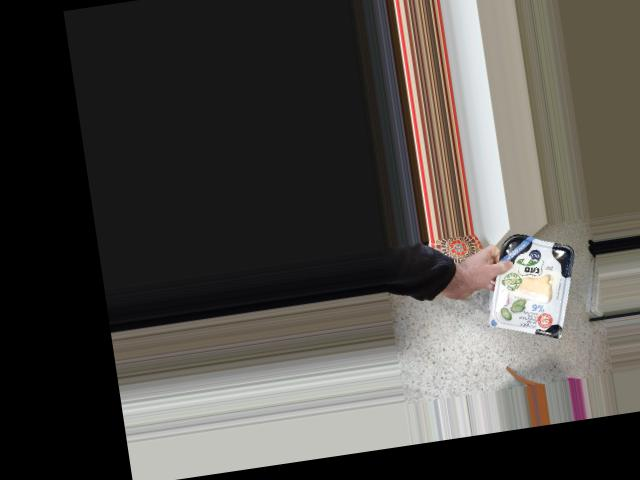cheese: (492, 237, 571, 333)
